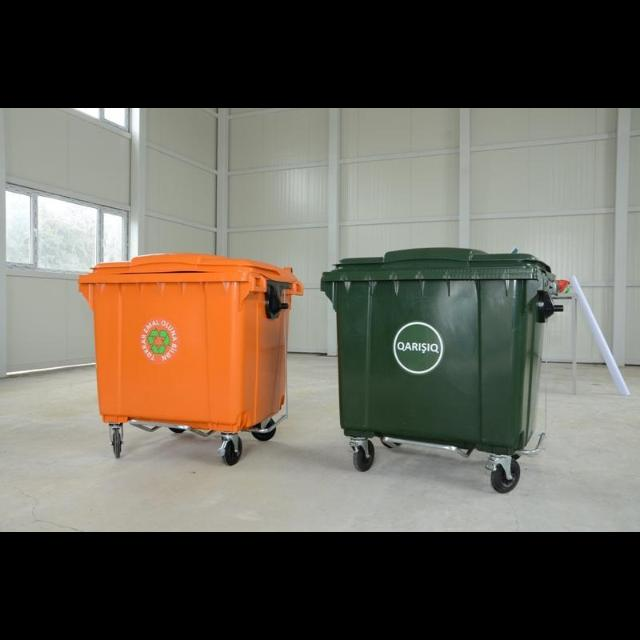Trash_Can_Closed: (321, 248, 567, 449), (77, 253, 302, 428)
